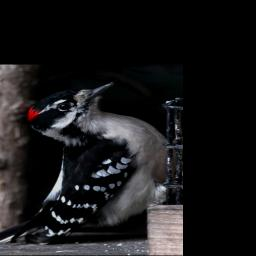Woodpecker: (0, 82, 176, 244)
